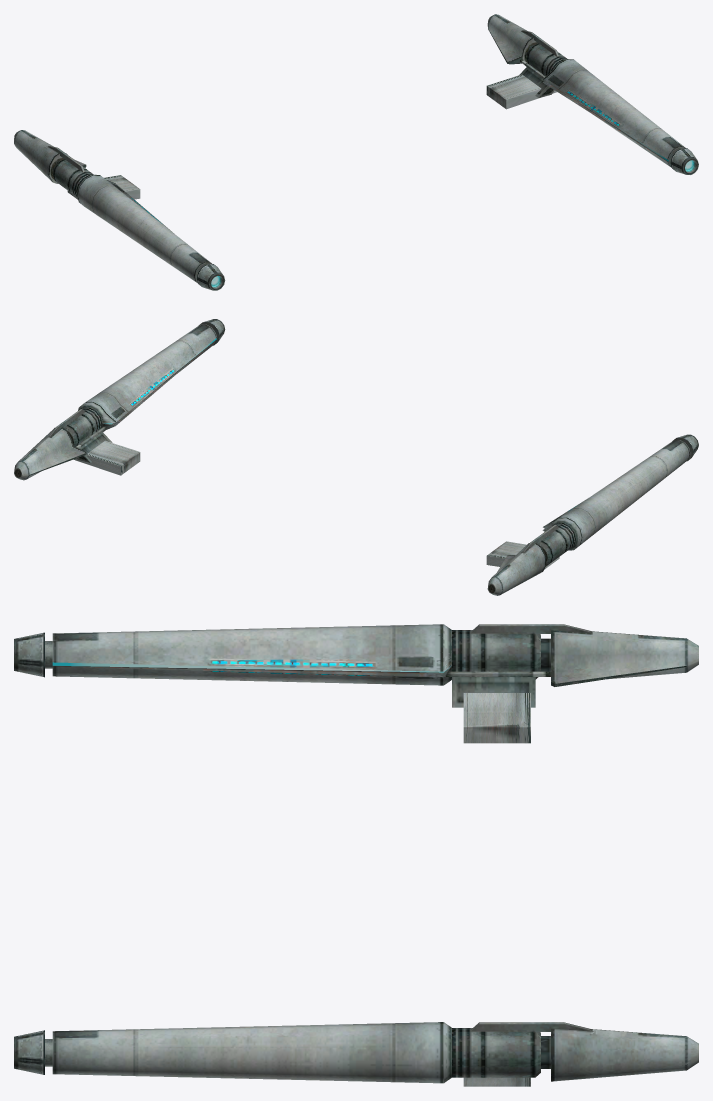
The model's file is awing_weapon_s02_l0.fbx.
3 views of the same model, one above another, from view 1: azimuth 30°, elevation 25°; view 2: azimuth 150°, elevation 25°; view 3: azimuth 270°, elevation 25° (orthographic). The views are drawn at different scales.
Visible parts, largest first — view 1: mesh_node; view 2: mesh_node; view 3: mesh_node.
Part boxes in pixels (x1,y1,x2,y2): mesh_node: (14, 14, 698, 290); mesh_node: (14, 319, 698, 595); mesh_node: (14, 624, 698, 1086).
Size of the model in its own units: 9.48 by 0.7595 by 6.48.
1 material, 1 textured.
